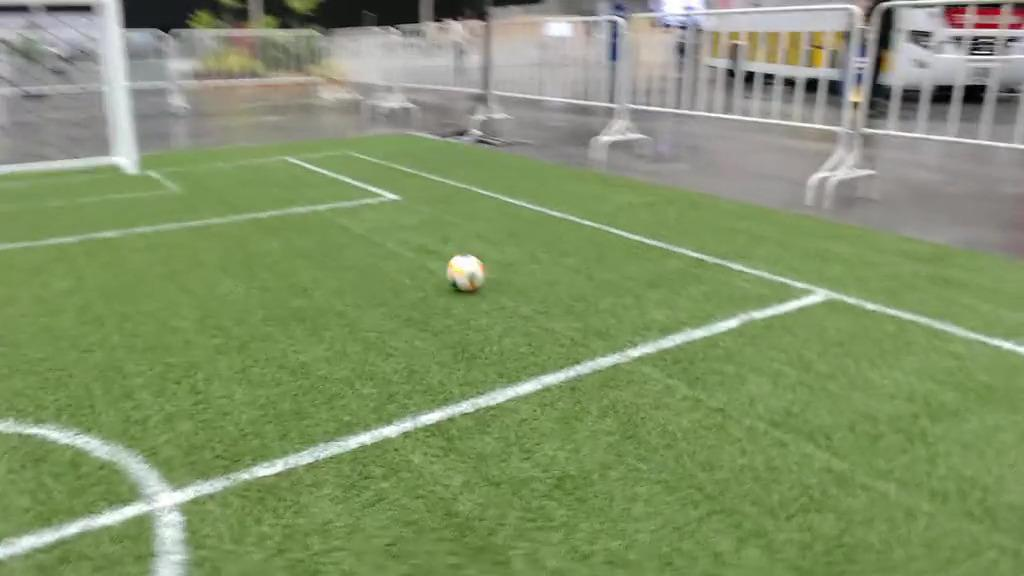ball: (448, 256, 484, 293)
